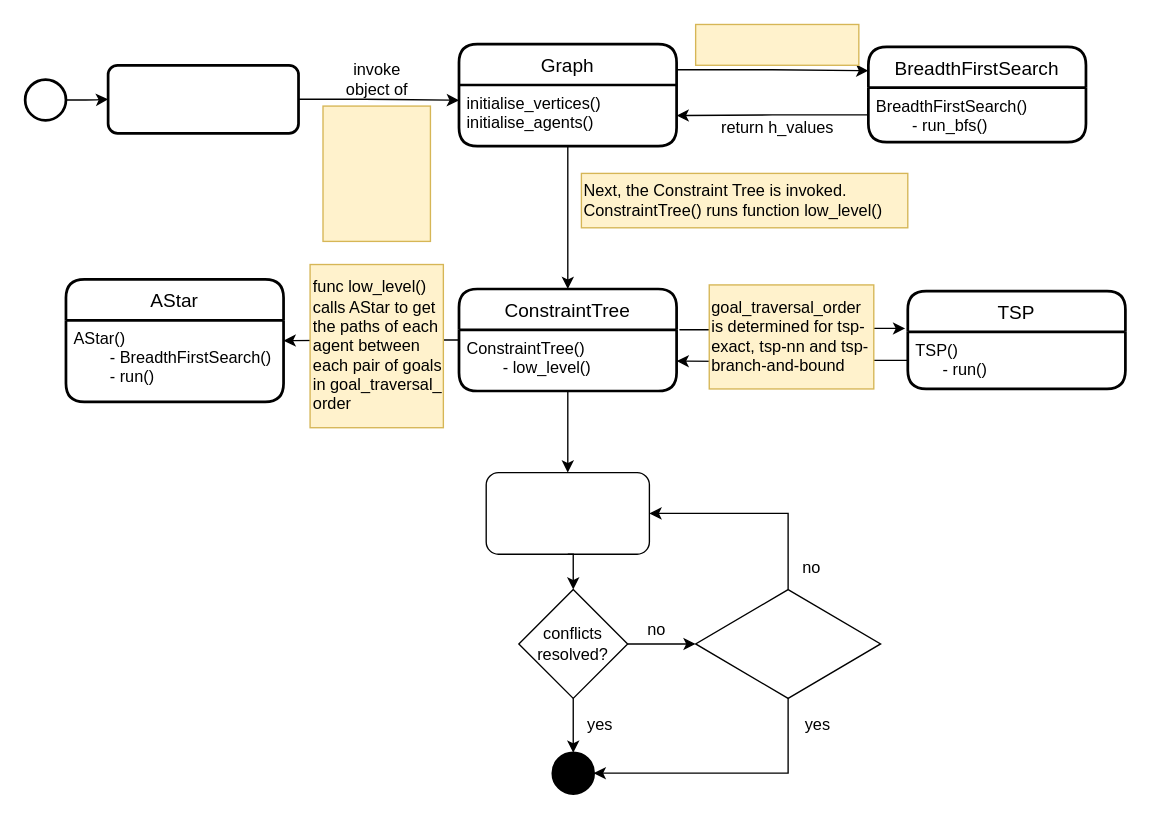
Image size: 1149x817. Some labels were removed from this diagram. The centre of each missing label's shape, as x and y in pixels:
BFS is run to retrieve the h-values for A*: (x=776, y=44)
conflict count > 200: (x=787, y=643)
Here the graph is initialised i.e. the vertices, agents and edges are set: (x=376, y=173)
Look for and resolve conflicts in the paths of all agents: (x=567, y=512)
take as input map_location & agent_location: (x=202, y=98)
